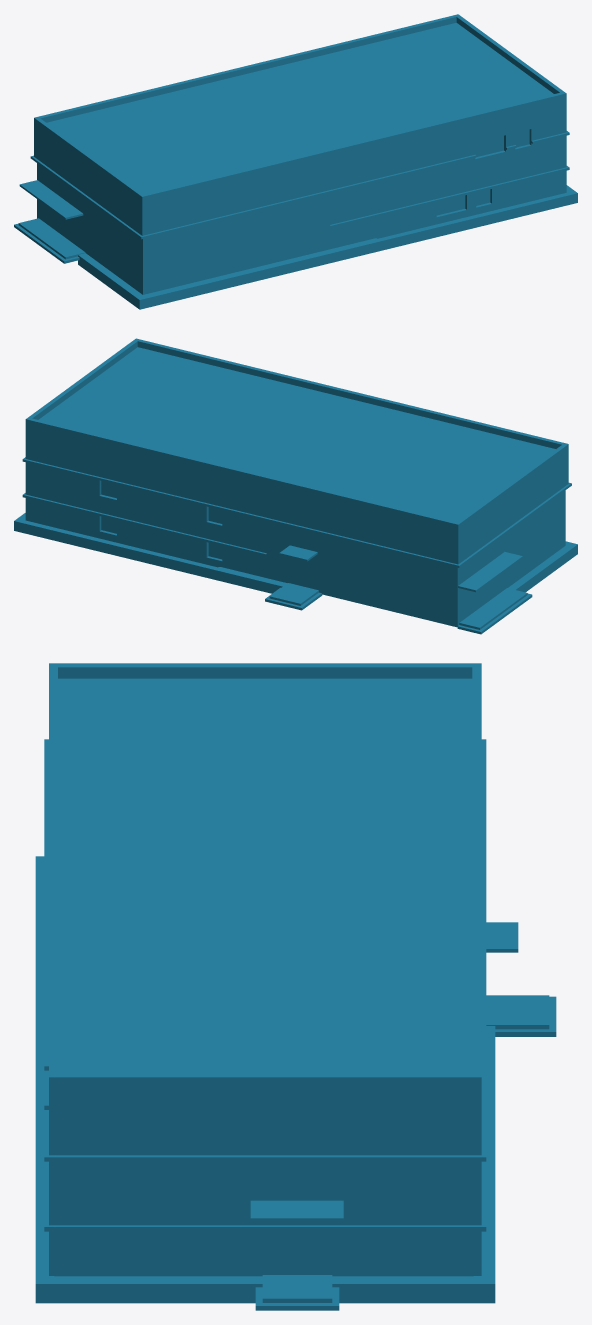
File: yq_shitang.glb
The picture shows the model from 3 angles, top to bottom: view 1: azimuth 30°, elevation 25°; view 2: azimuth 150°, elevation 25°; view 3: azimuth 270°, elevation 25°; orthographic projection. The views are drawn at different scales.
Visible parts, largest first — view 1: yq_shitang02, yq_shitang01, yq_shitang04, yq_shitang00; view 2: yq_shitang02, yq_shitang01, yq_shitang04, yq_shitang00, yq_shitang03, yq_shitang06; view 3: yq_shitang02, yq_shitang01, yq_shitang05, yq_shitang03, yq_shitang07, yq_shitang06.
Boxes of the visible parts, <box> form: yq_shitang02: <box>30,14,569,294</box>; yq_shitang01: <box>78,185,577,309</box>; yq_shitang04: <box>14,218,85,263</box>; yq_shitang00: <box>19,180,83,219</box>; yq_shitang02: <box>22,338,571,627</box>; yq_shitang01: <box>14,513,577,593</box>; yq_shitang04: <box>457,588,532,634</box>; yq_shitang00: <box>458,552,522,592</box>; yq_shitang03: <box>265,583,322,610</box>; yq_shitang06: <box>279,545,317,561</box>; yq_shitang02: <box>44,663,486,1276</box>; yq_shitang01: <box>35,856,495,1303</box>; yq_shitang05: <box>255,1275,339,1310</box>; yq_shitang03: <box>486,995,556,1036</box>; yq_shitang07: <box>250,1200,343,1221</box>; yq_shitang06: <box>486,922,518,952</box>.
Bounding box in the file's own units: 46.9 × 10.33 × 22.37.
